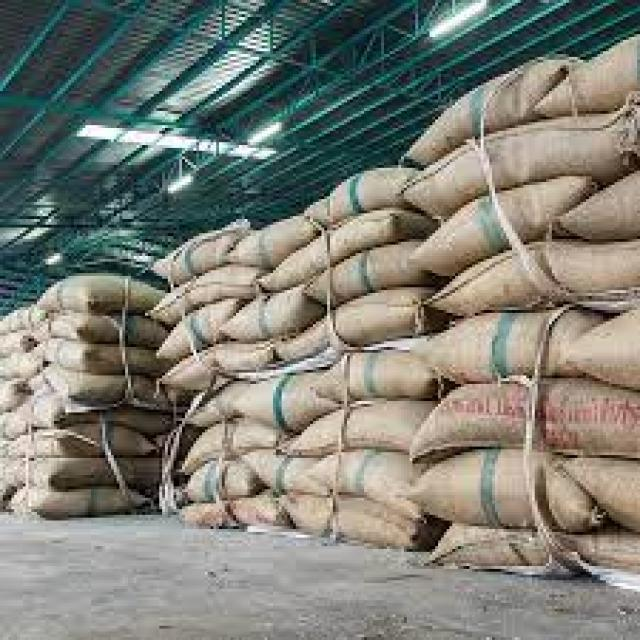gunny_bag: (395, 106, 640, 223), (408, 174, 598, 288), (402, 56, 588, 169), (412, 375, 640, 467), (407, 438, 609, 533), (422, 233, 640, 320), (250, 204, 436, 290), (414, 302, 597, 384), (288, 439, 433, 522), (293, 390, 432, 458), (302, 238, 441, 300), (538, 34, 640, 118), (282, 398, 422, 458), (558, 300, 640, 400), (556, 444, 640, 540), (323, 284, 443, 350), (293, 165, 421, 222), (321, 349, 452, 402), (210, 286, 326, 344), (156, 337, 274, 393), (562, 158, 640, 242), (36, 264, 160, 316), (145, 269, 266, 321), (225, 213, 326, 274), (25, 418, 154, 464), (152, 222, 258, 277), (160, 292, 244, 360), (226, 366, 318, 425), (168, 426, 281, 472), (39, 336, 160, 378), (38, 484, 160, 525), (44, 452, 157, 490), (180, 461, 260, 504)
